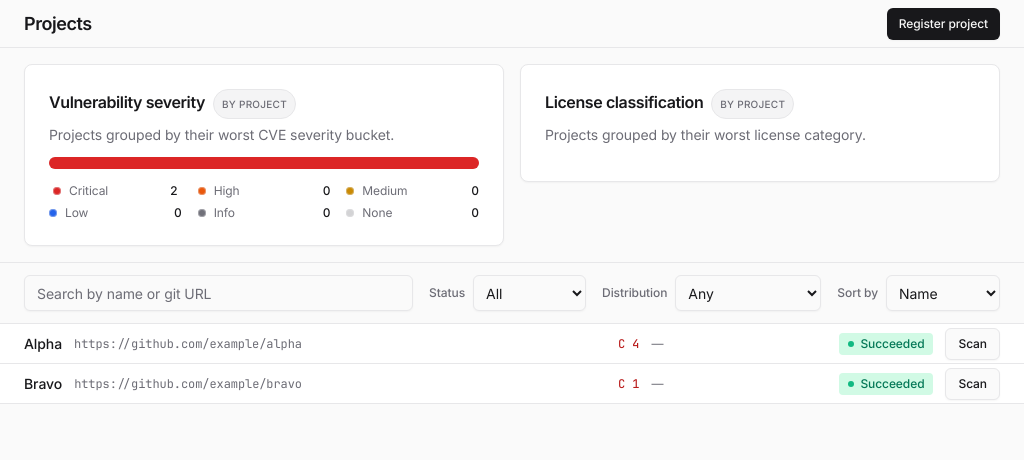
Test: ProjectListPage › toggles the severity chart filter off when the same segment is re-clicked
Expected: the element with test id "project-list-distribution-cards" is shown, [0,48,1023,263]
What coordinates should you click on to do the following:
click the button with test id "severity-bar-critical"
I would click on:
 (264, 163)
Its box is [49,157,479,169].
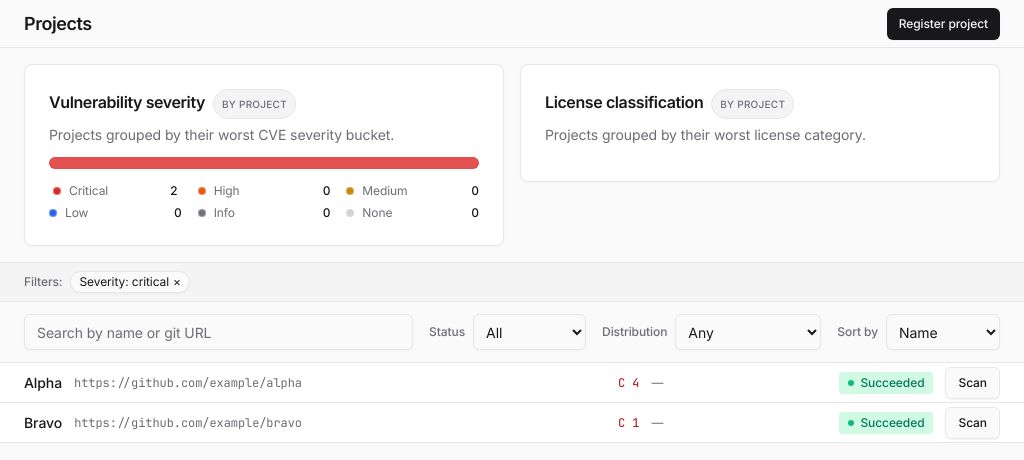
Expected: the element with test id "project-list-active-filters" is shown, [0,263,1023,302]
What coordinates should you click on to do the following:
click the button with test id "severity-bar-critical"
I would click on:
 (264, 163)
Its box is [49,157,479,169].
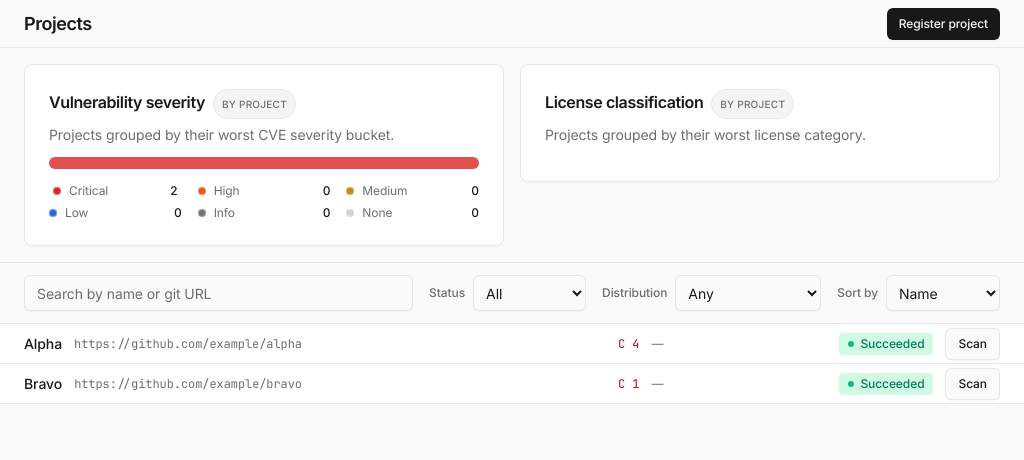
Expected: the element with test id "project-list-active-filters" is gone
